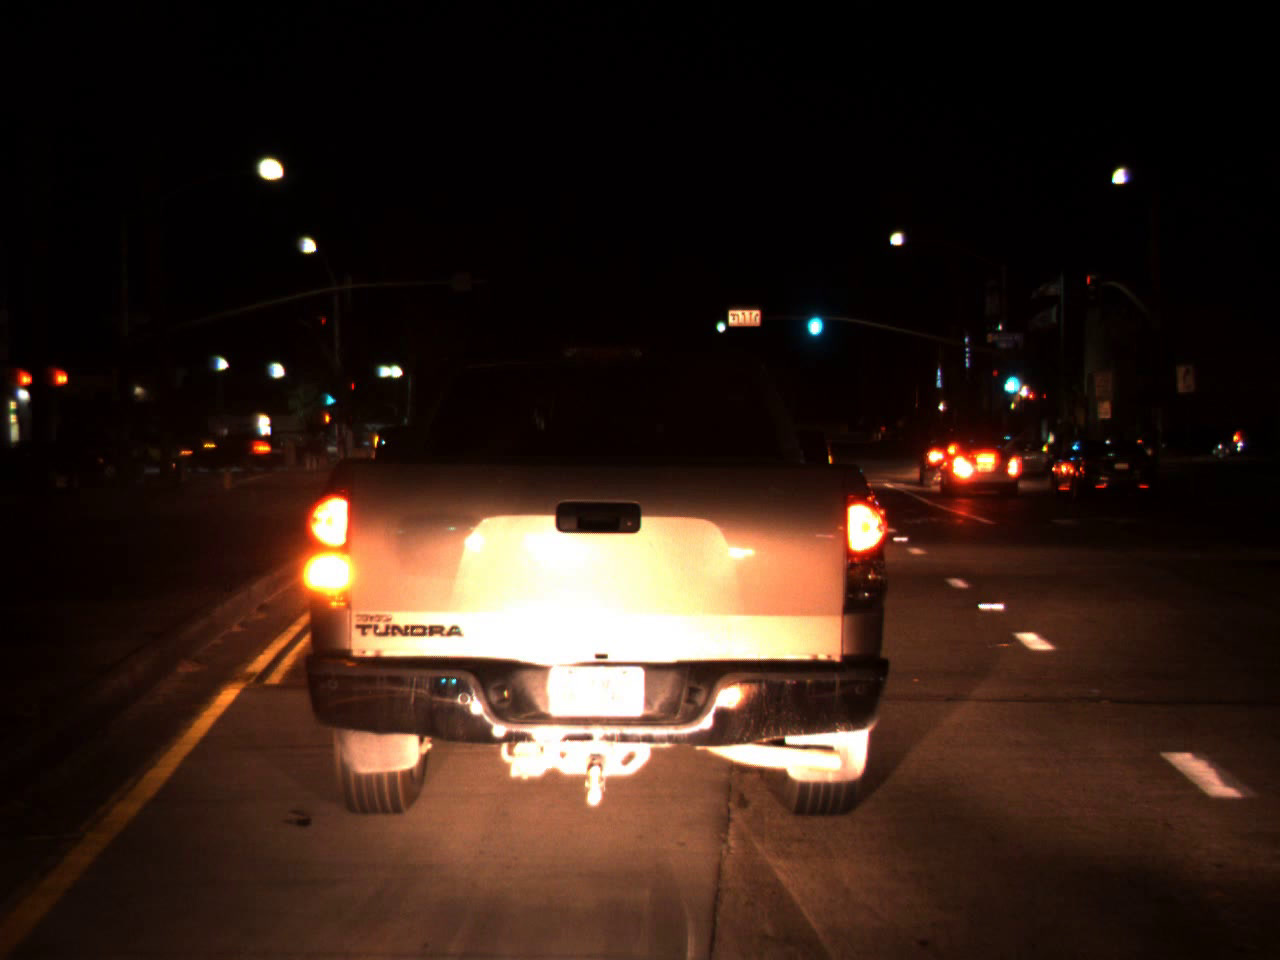go: (801, 294, 826, 342), (1001, 354, 1022, 399), (712, 309, 728, 336), (322, 382, 338, 409)
